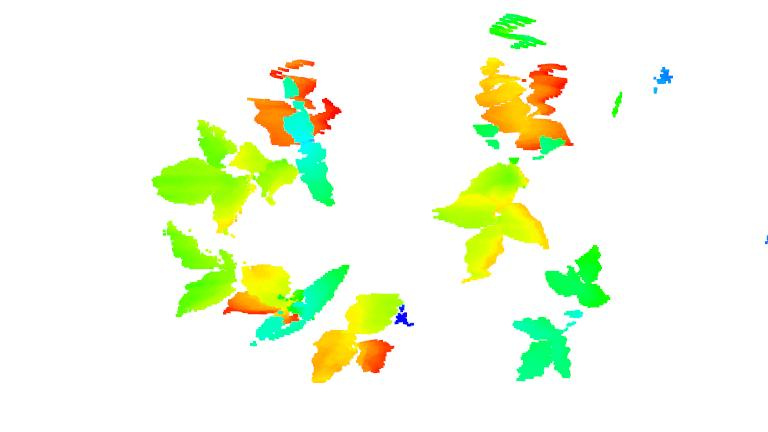mungbean: (159, 221, 412, 386), (431, 13, 577, 285), (150, 54, 349, 229), (511, 241, 618, 384)
